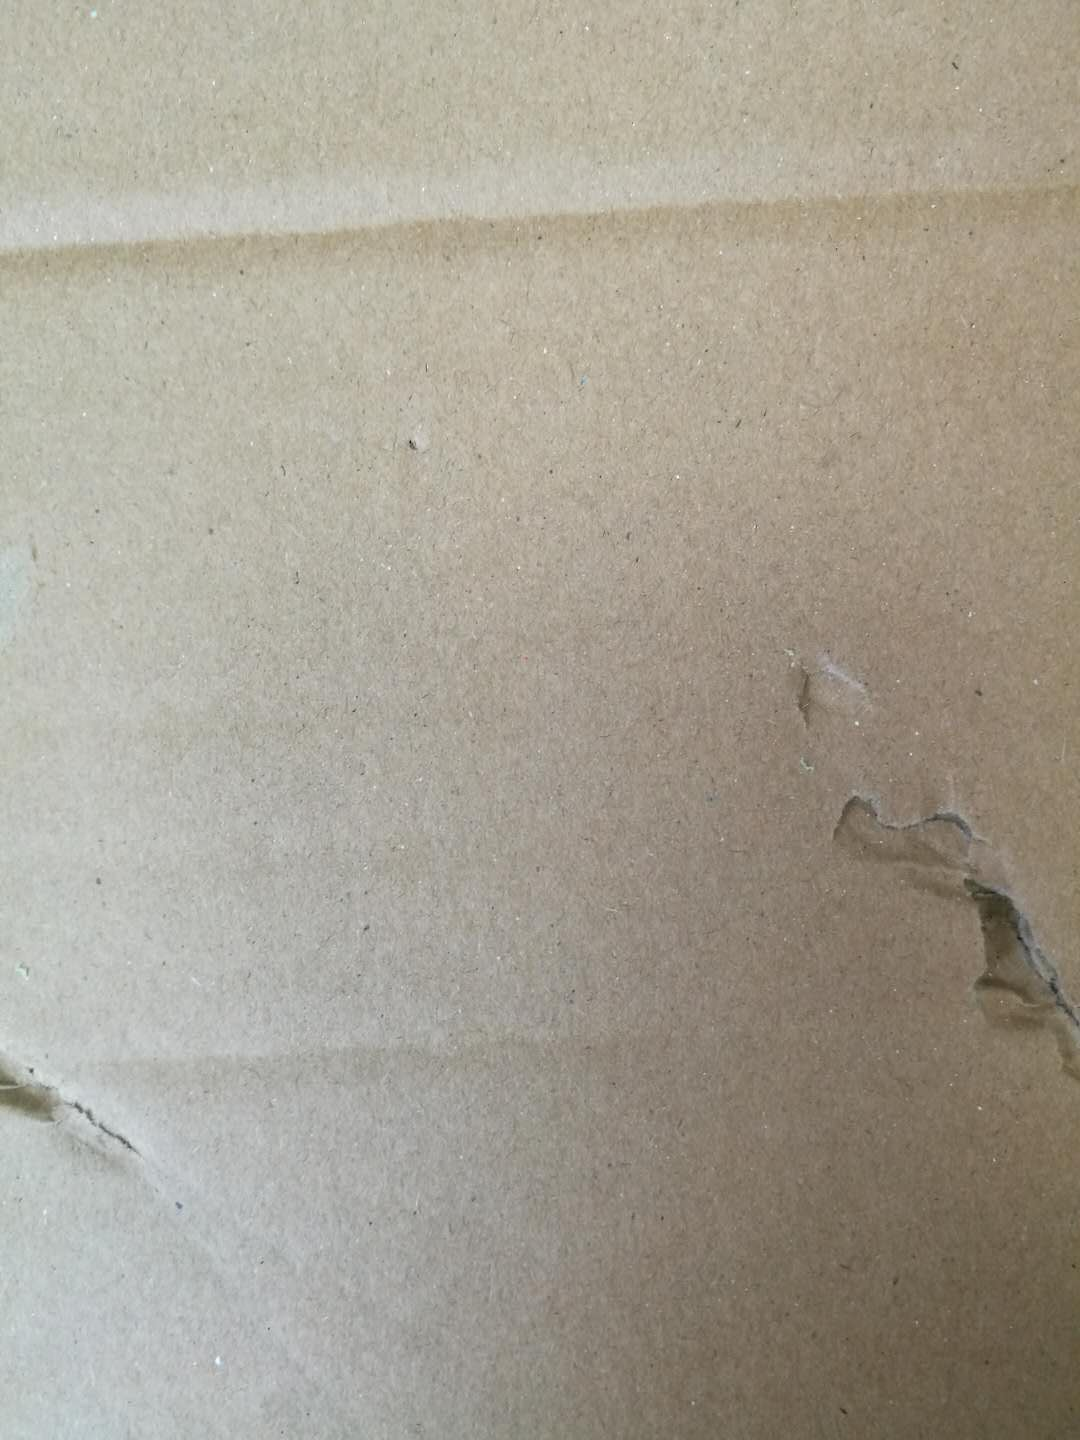defect: (5, 115, 1080, 342), (759, 630, 1080, 1113), (2, 1010, 219, 1265)
